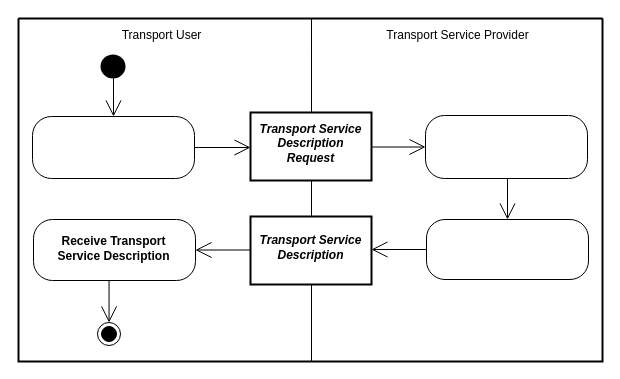
Image size: 620x379. Some labels were removed from this diagram. The shapes that lost their labels are listed below. From the top down, each one's box as (x1, y1, x2, y2) in pixels, then its label:
(32, 116, 194, 178): Request Transport Service Description
(424, 114, 588, 178): Receive Transport Service Description Request
(426, 218, 588, 280): Send Transport Service Description
